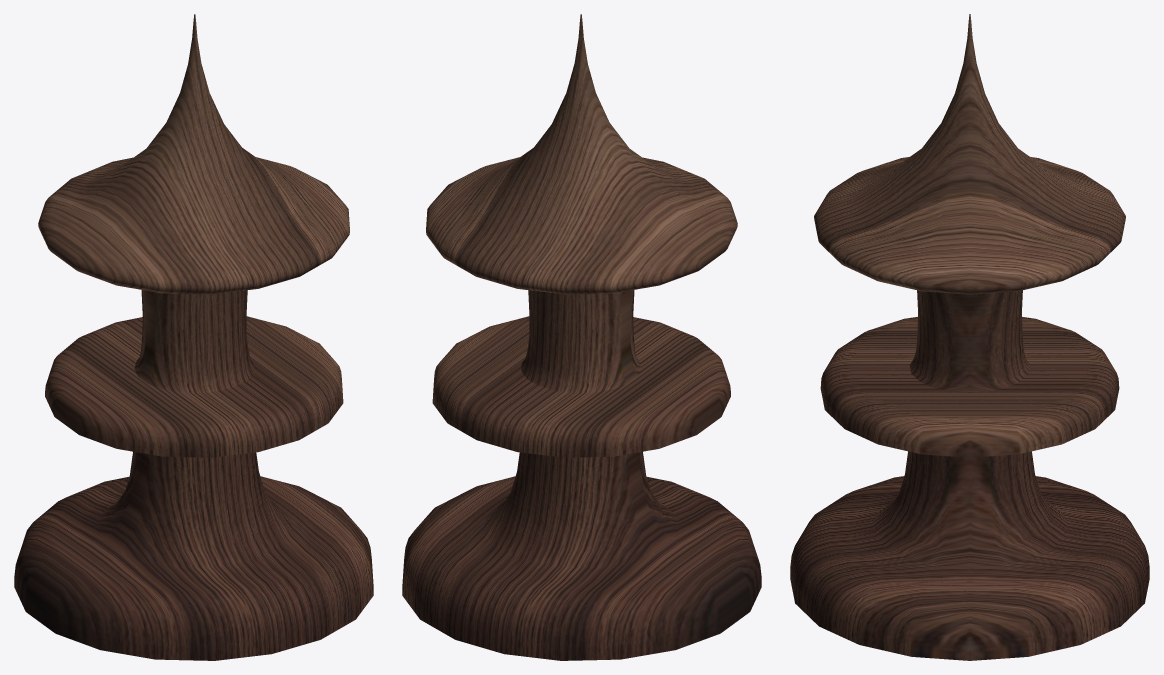
File: Tower.obj
3 renders of one model, left to right at view 1: azimuth 30°, elevation 25°; view 2: azimuth 150°, elevation 25°; view 3: azimuth 270°, elevation 25°, orthographic.
Visible parts, largest first — view 1: Line001; view 2: Line001; view 3: Line001.
Part boxes in pixels (x1,y1,x2,y2): Line001: (14,14,373,660); Line001: (402,14,761,660); Line001: (790,14,1149,660).
Bounding box in the file's own units: 28.55 × 50.14 × 28.65.
